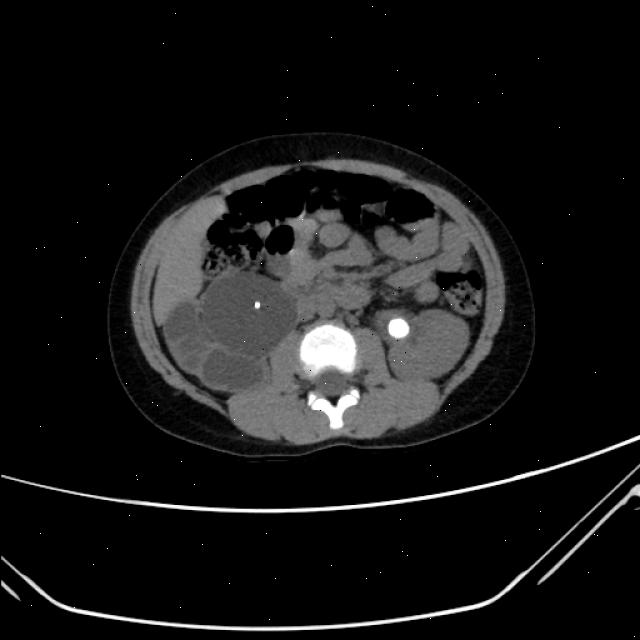kidneystone: (390, 318, 410, 338), (254, 300, 261, 309)
